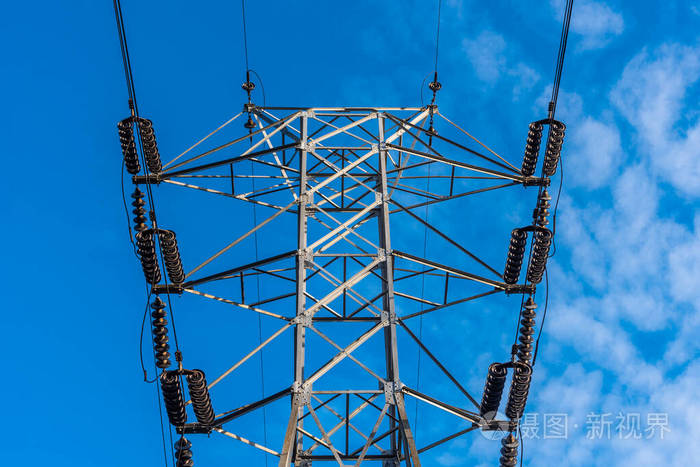insulator: (162, 369, 217, 430), (478, 362, 533, 418), (135, 230, 187, 287), (502, 227, 552, 284), (116, 119, 164, 175), (523, 119, 565, 178), (148, 299, 176, 369), (516, 300, 539, 364), (129, 190, 147, 231), (498, 437, 522, 467), (172, 436, 193, 467), (536, 194, 554, 228)
